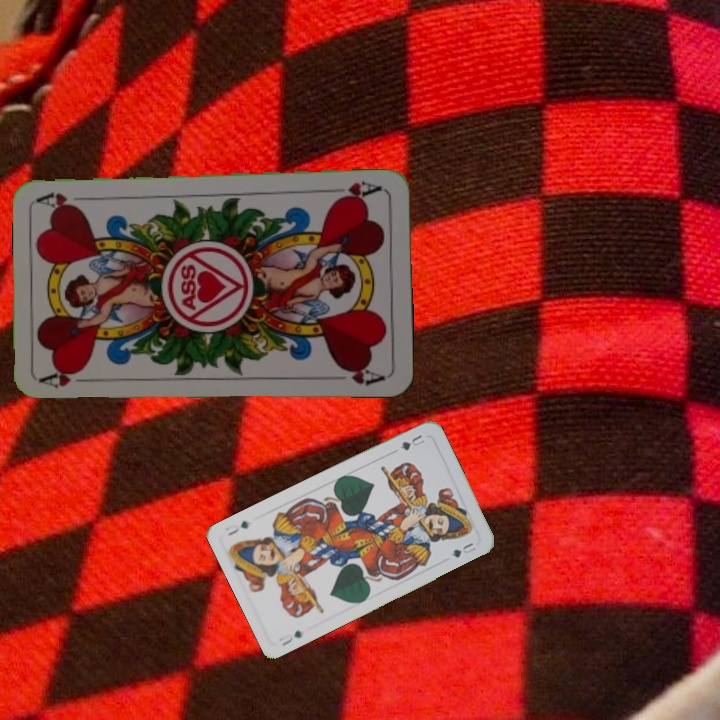GU: (396, 430, 427, 453), (275, 626, 304, 649)
HA: (38, 363, 97, 390), (327, 177, 384, 203)
